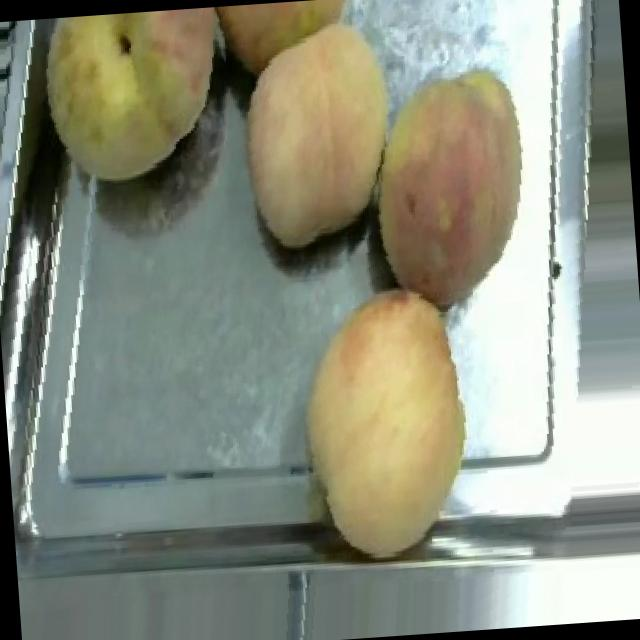Fruit: (281, 270, 485, 568), (344, 51, 552, 324), (210, 2, 416, 266), (7, 6, 238, 205)
